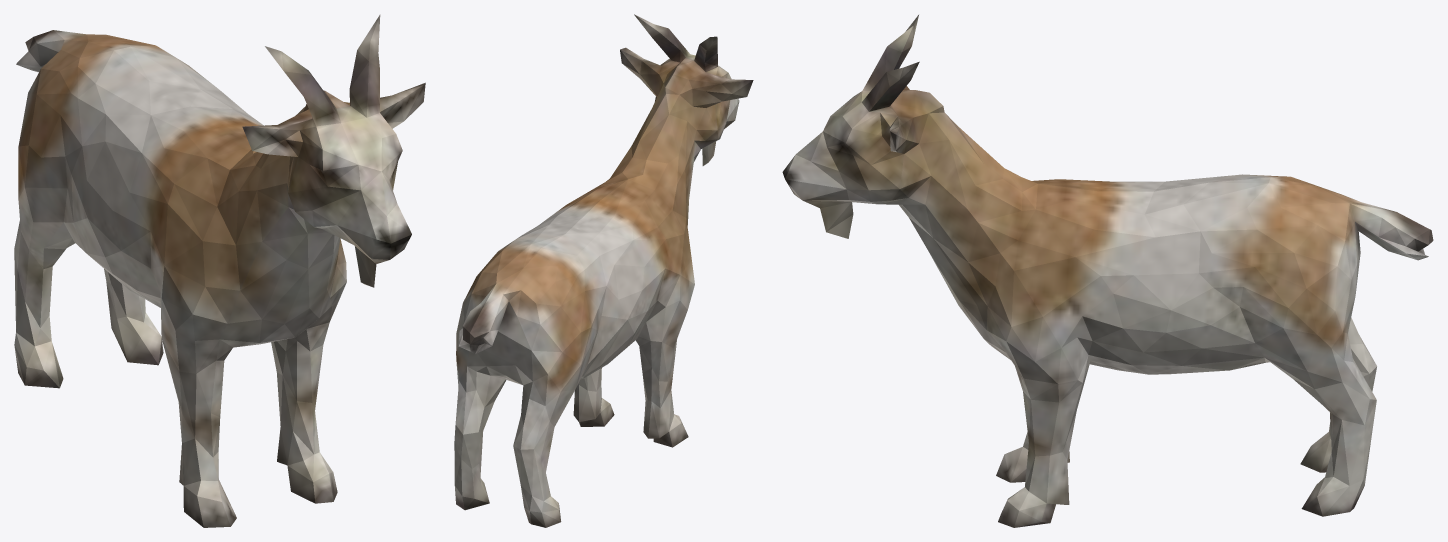
File: r32_tier_ziege.glb
3 renders of one model, left to right at view 1: azimuth 30°, elevation 25°; view 2: azimuth 150°, elevation 25°; view 3: azimuth 270°, elevation 25°, orthographic. The views are drawn at different scales.
Visible parts, largest first — view 1: ziege; view 2: ziege; view 3: ziege.
Boxes of the visible parts, bbox=[...] form: ziege: bbox=[14, 14, 425, 527]; ziege: bbox=[454, 14, 753, 527]; ziege: bbox=[782, 15, 1433, 527].
Bounding box in the file's own units: 0.3716 × 1 × 1.28.
1 material, 1 textured.
